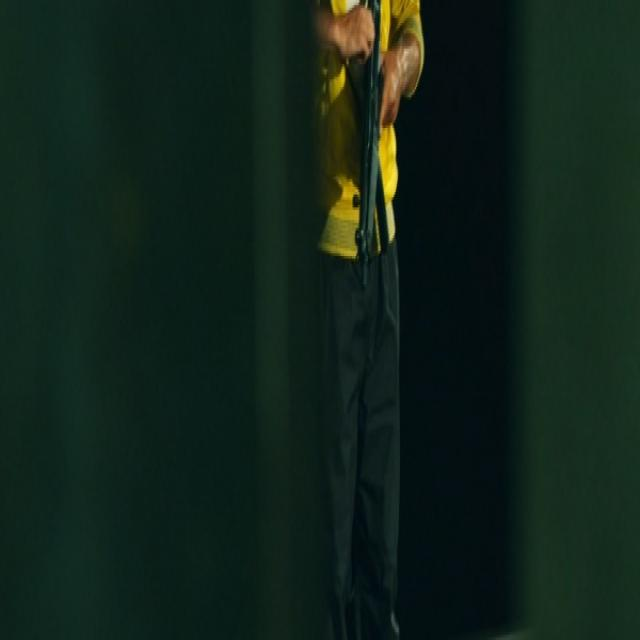rifle: (355, 1, 389, 295)
